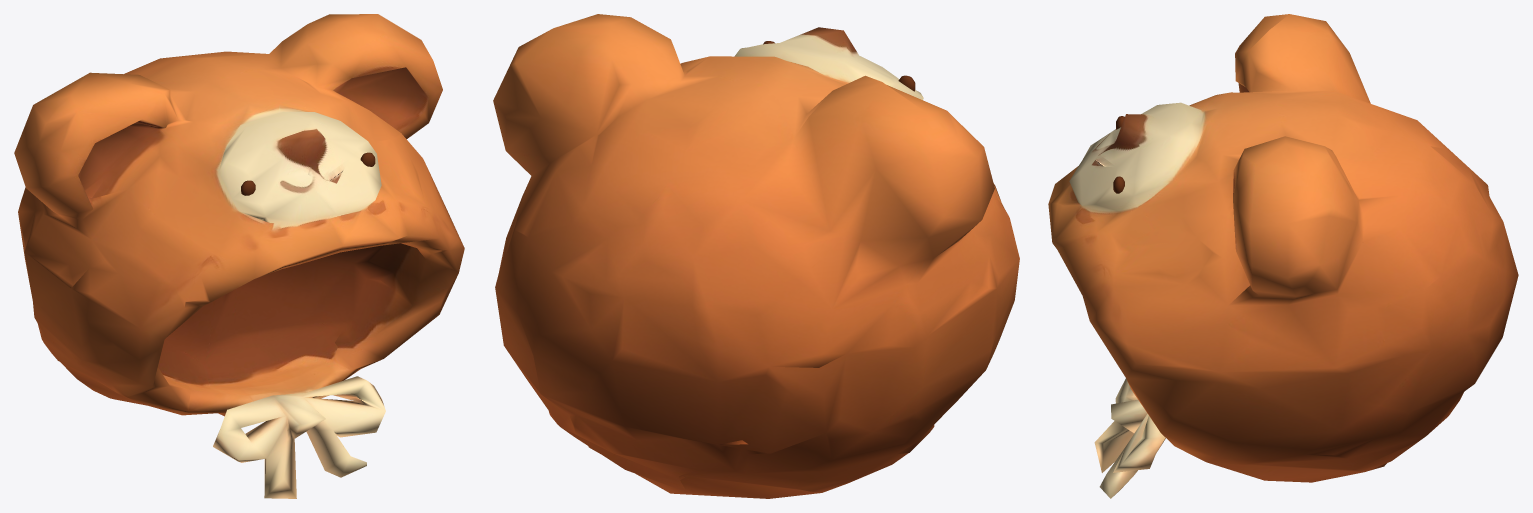
The model's file is bear-head.glb.
3 renders of one model, left to right at view 1: azimuth 30°, elevation 25°; view 2: azimuth 150°, elevation 25°; view 3: azimuth 270°, elevation 25°, orthographic. The views are drawn at different scales.
Parts seen in each view (by area): view 1: tripo_node_eabbeaa5; view 2: tripo_node_eabbeaa5; view 3: tripo_node_eabbeaa5.
Boxes of the visible parts, x1=… form: tripo_node_eabbeaa5: x1=14, y1=14, x2=464, y2=498; tripo_node_eabbeaa5: x1=493, y1=14, x2=1019, y2=498; tripo_node_eabbeaa5: x1=1048, y1=14, x2=1518, y2=498.
Size of the model in its own units: 0.686 by 0.615 by 0.657.
Materials: 1 (1 with a texture image).
